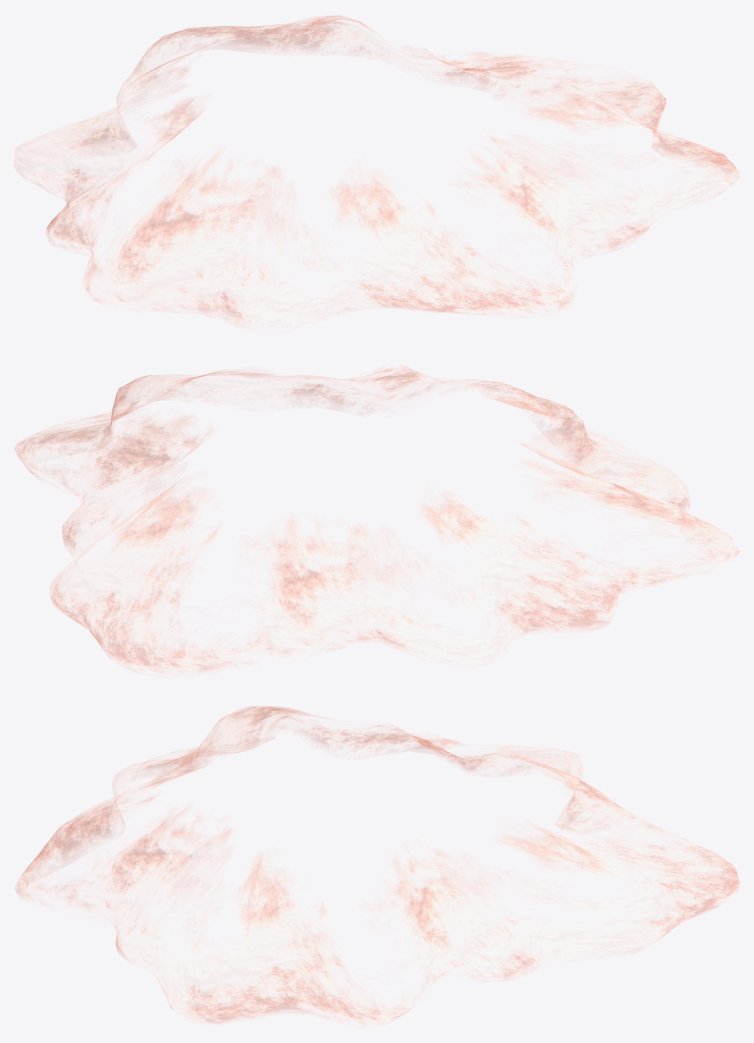
Rendered from devil_skirt_c.glb.
3 renders of one model, top to bottom at view 1: azimuth 30°, elevation 25°; view 2: azimuth 150°, elevation 25°; view 3: azimuth 270°, elevation 25°, orthographic. The views are drawn at different scales.
Parts seen in each view (by area): view 1: devil_skirt_c; view 2: devil_skirt_c; view 3: devil_skirt_c.
Boxes of the visible parts, x1,y1,x2,y2 form: devil_skirt_c: (14,15,739,325); devil_skirt_c: (14,366,739,673); devil_skirt_c: (15,706,739,1024).
Size of the model in its own units: 24.59 by 3.8 by 24.81.
Materials: 1 (1 with a texture image).
